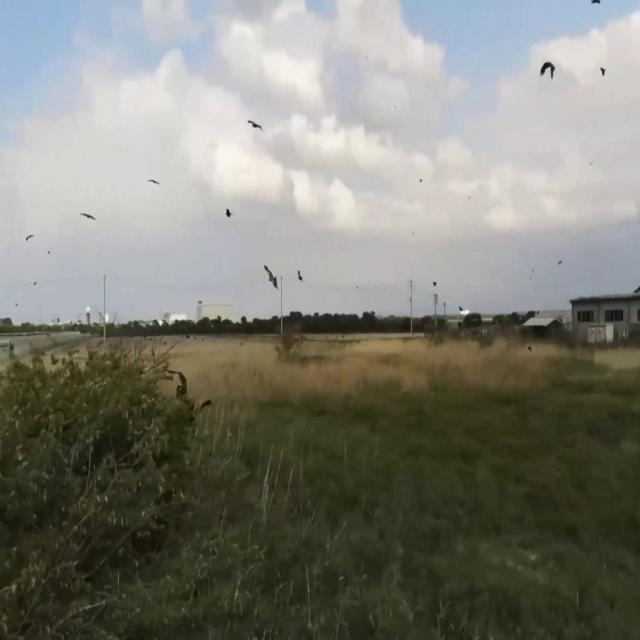bird: (262, 255, 280, 300), (539, 50, 557, 94), (245, 108, 264, 144), (79, 203, 97, 231), (147, 168, 160, 195), (25, 226, 35, 249), (225, 200, 233, 226)
